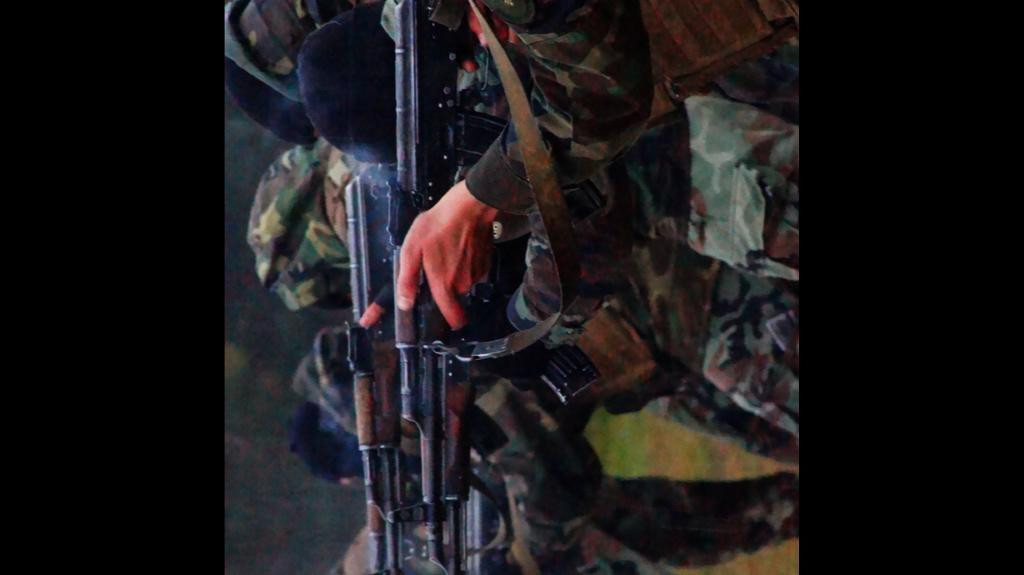gun: (389, 0, 509, 575)
